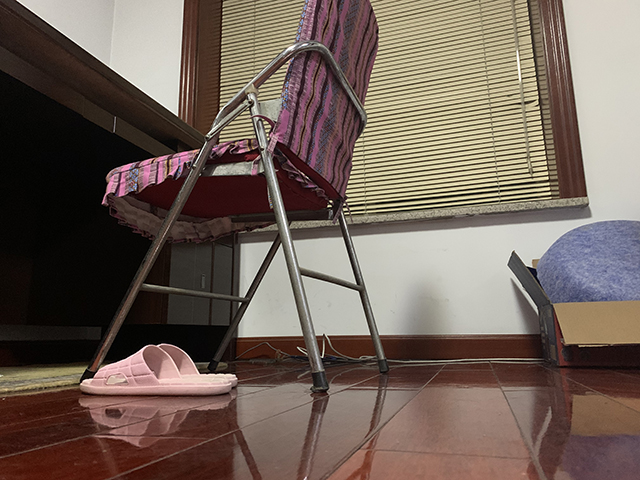cabinet: (1, 1, 241, 378)
carpet: (1, 360, 230, 396)
slippers: (80, 342, 240, 397)
stool: (78, 1, 391, 395)
wire: (234, 333, 546, 367)
